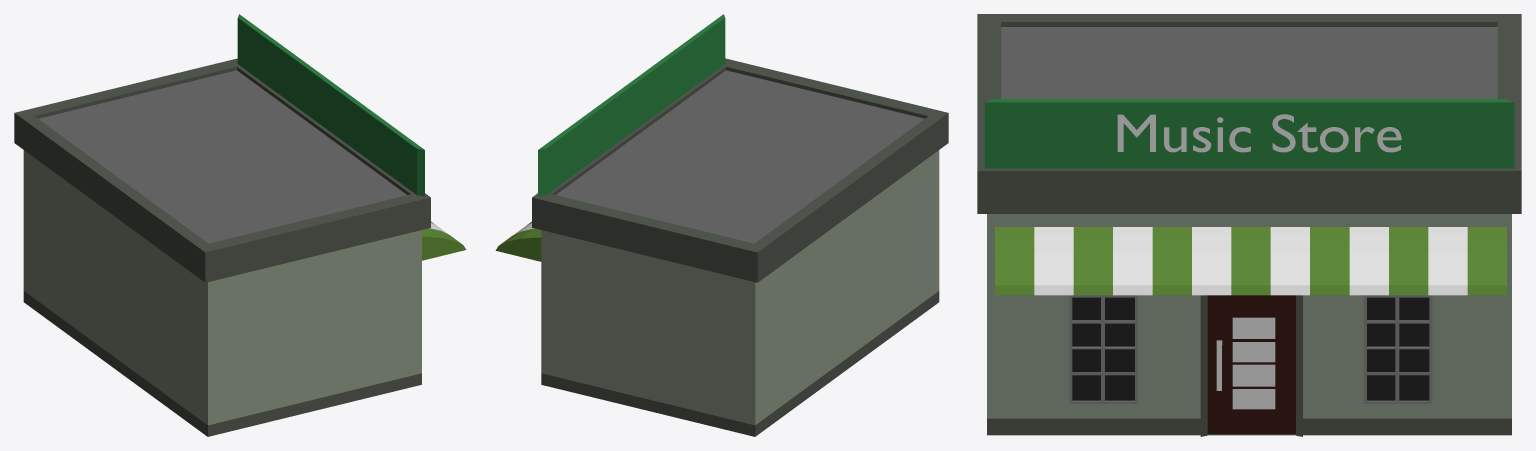
The model's file is Building_MusicStore.fbx.
3 renders of one model, left to right at view 1: azimuth 30°, elevation 25°; view 2: azimuth 150°, elevation 25°; view 3: azimuth 270°, elevation 25°, orthographic. The views are drawn at different scales.
Visible parts, largest first — view 1: Cube, Plane; view 2: Cube, Plane; view 3: Cube, Plane, Text.
Part boxes in pixels (x1,y1,x2,y2): Cube: [14, 14, 430, 436]; Plane: [422, 221, 466, 260]; Cube: [532, 14, 948, 436]; Plane: [495, 221, 541, 261]; Cube: [977, 14, 1521, 436]; Plane: [995, 227, 1506, 295]; Text: [1117, 114, 1401, 152].
Size of the model in its own units: 730 by 613 by 903.
